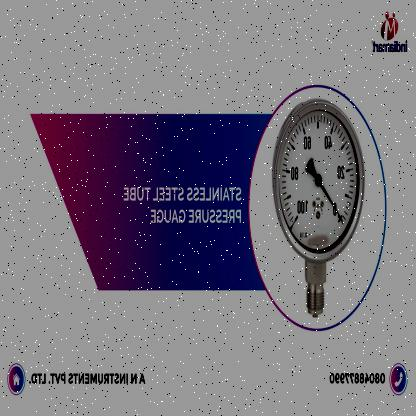needle: (319, 182, 344, 223)
